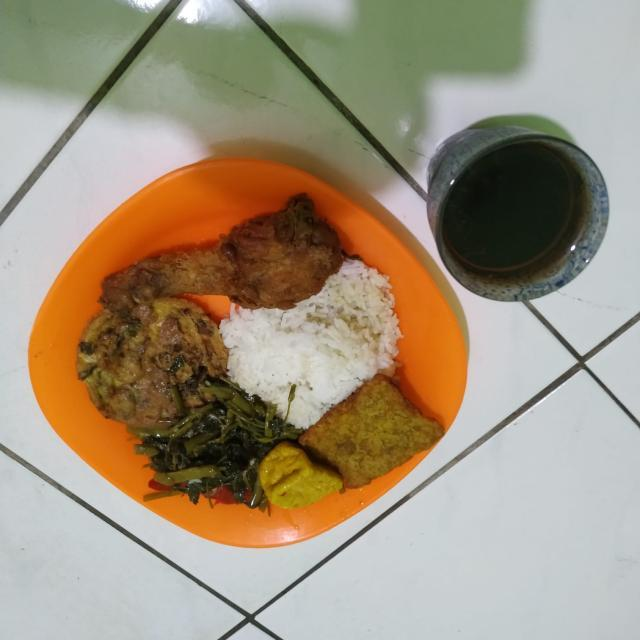ayam_goreng: (91, 182, 352, 356)
nasi_putih: (190, 258, 412, 462)
telur_ayam_dadar: (76, 300, 236, 454)
